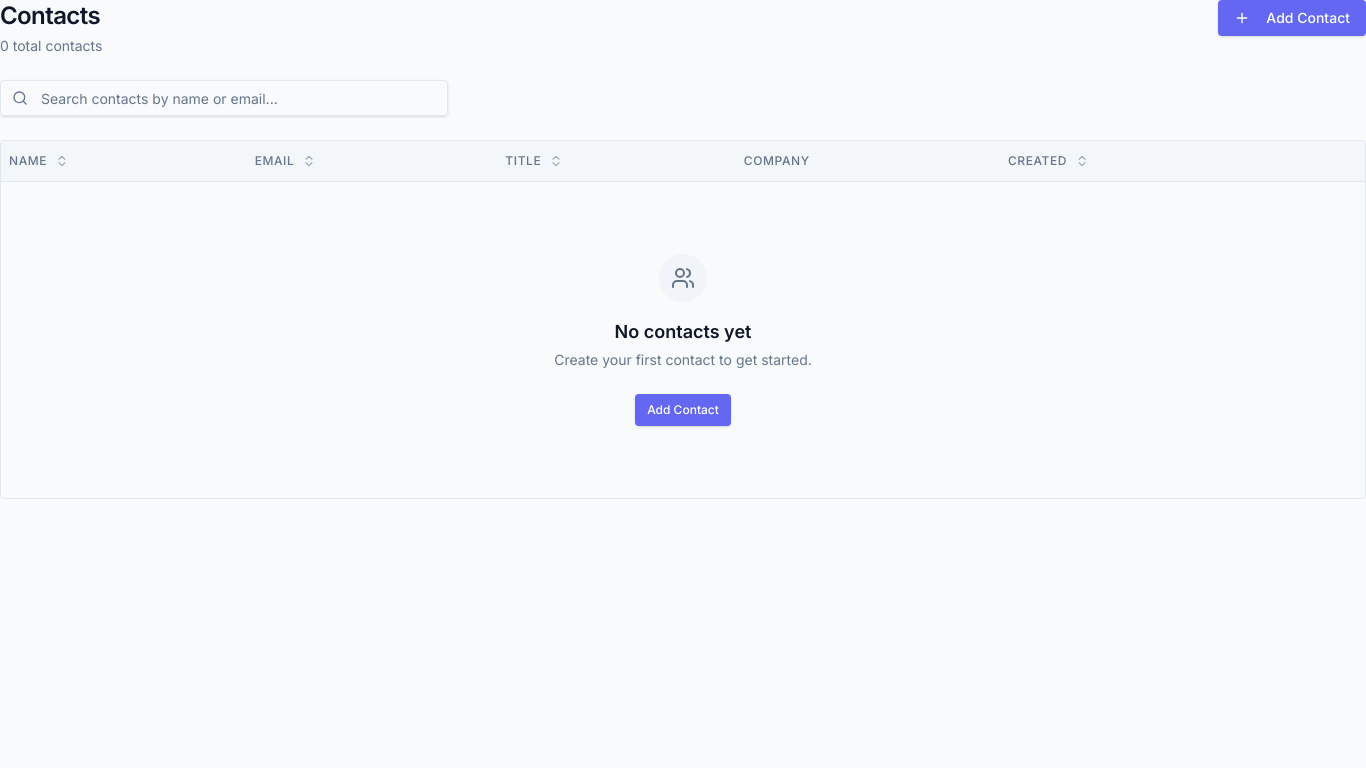
Scenario: ContactsPage › opens the create contact dialog when Add Contact is clicked
// Click the header button (first match in DOM, has Plus icon)
Step 1. Click the 1st button "Add Contact" → (1292, 18), box [1218,0,1365,36]
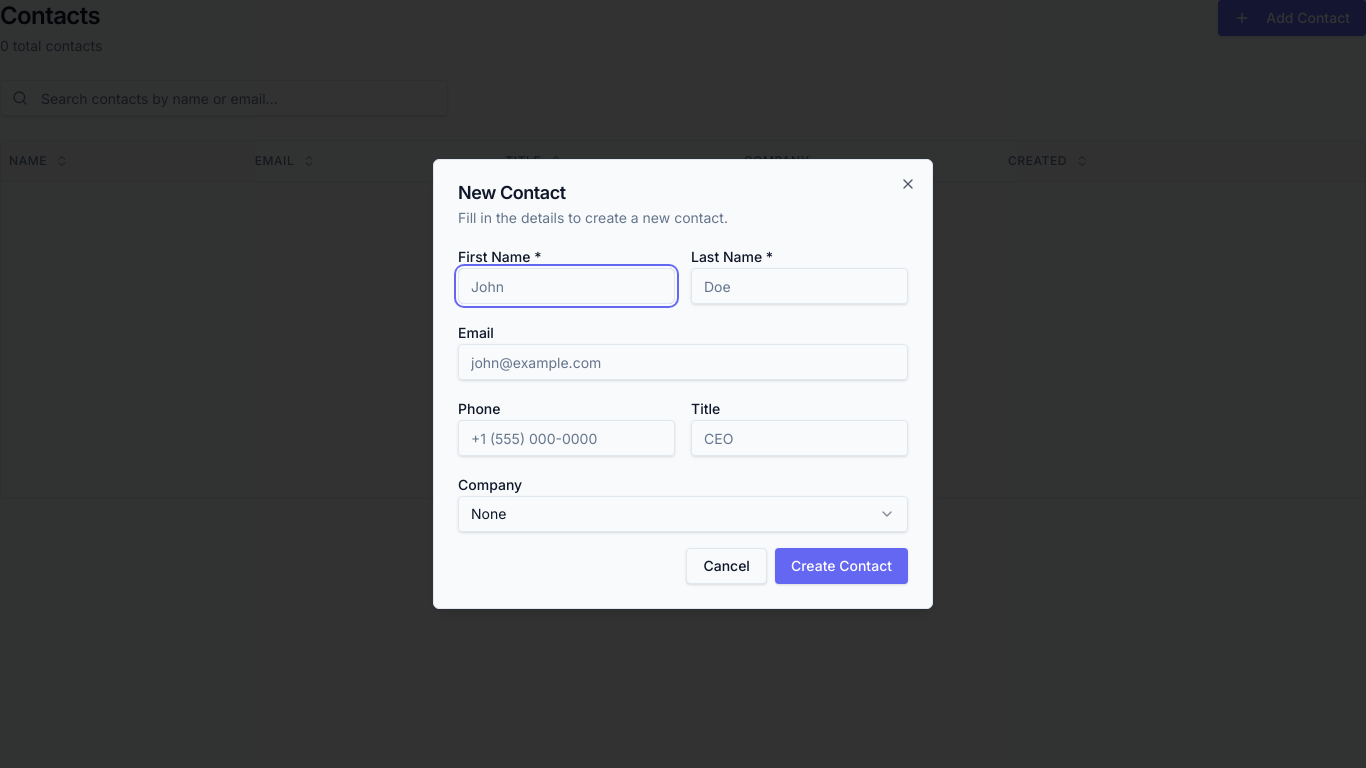
Check: the heading "New Contact" is shown, box [458,182,566,203]
